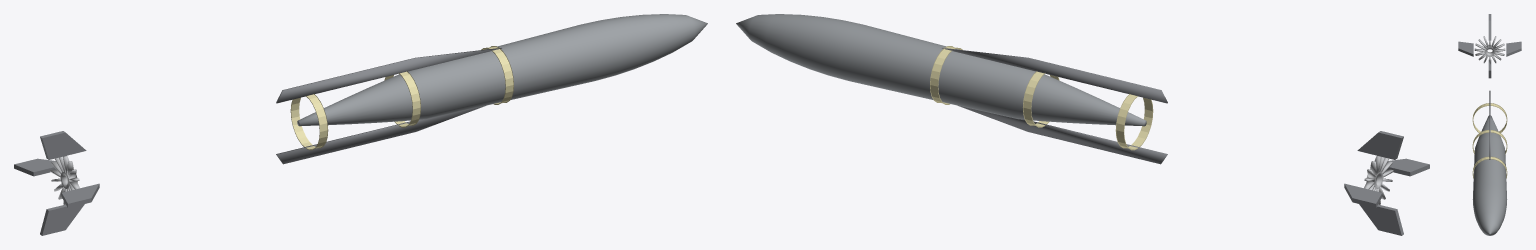
File: RU_TORP_5365M_LOD1.fbx
The picture shows the model from 3 angles, left to right: view 1: azimuth 30°, elevation 25°; view 2: azimuth 150°, elevation 25°; view 3: azimuth 270°, elevation 25°; orthographic projection. The views are drawn at different scales.
Visible parts, largest first — view 1: WPN_RU_TORP_5365M_LOD1_Body, WPN_RU_TORP_5365M_LOD1_Detail, WPN_RU_TORP_5365M_LOD1_Fins, WPN_RU_TORP_5365M_LOD1_Marking, WPN_RU_TORP_5365M_LOD1_Propulsor; view 2: WPN_RU_TORP_5365M_LOD1_Body, WPN_RU_TORP_5365M_LOD1_Detail, WPN_RU_TORP_5365M_LOD1_Fins, WPN_RU_TORP_5365M_LOD1_Marking, WPN_RU_TORP_5365M_LOD1_Propulsor; view 3: WPN_RU_TORP_5365M_LOD1_Body, WPN_RU_TORP_5365M_LOD1_Fins, WPN_RU_TORP_5365M_LOD1_Marking, WPN_RU_TORP_5365M_LOD1_Propulsor, WPN_RU_TORP_5365M_LOD1_Detail.
Boxes of the visible parts, x1=… form: WPN_RU_TORP_5365M_LOD1_Body: x1=297, y1=14, x2=707, y2=126; WPN_RU_TORP_5365M_LOD1_Detail: x1=276, y1=48, x2=501, y2=164; WPN_RU_TORP_5365M_LOD1_Fins: x1=14, y1=131, x2=99, y2=235; WPN_RU_TORP_5365M_LOD1_Marking: x1=290, y1=46, x2=513, y2=150; WPN_RU_TORP_5365M_LOD1_Propulsor: x1=50, y1=155, x2=79, y2=204; WPN_RU_TORP_5365M_LOD1_Body: x1=736, y1=14, x2=1146, y2=126; WPN_RU_TORP_5365M_LOD1_Detail: x1=942, y1=48, x2=1167, y2=164; WPN_RU_TORP_5365M_LOD1_Fins: x1=1344, y1=131, x2=1429, y2=235; WPN_RU_TORP_5365M_LOD1_Marking: x1=930, y1=46, x2=1153, y2=150; WPN_RU_TORP_5365M_LOD1_Propulsor: x1=1364, y1=155, x2=1393, y2=204; WPN_RU_TORP_5365M_LOD1_Body: x1=1472, y1=115, x2=1507, y2=235; WPN_RU_TORP_5365M_LOD1_Fins: x1=1458, y1=14, x2=1521, y2=78; WPN_RU_TORP_5365M_LOD1_Marking: x1=1472, y1=103, x2=1507, y2=178; WPN_RU_TORP_5365M_LOD1_Propulsor: x1=1474, y1=36, x2=1505, y2=64; WPN_RU_TORP_5365M_LOD1_Detail: x1=1489, y1=90, x2=1490, y2=159.
Bounding box in the file's own units: 7.03 × 0.9849 × 0.9849.
